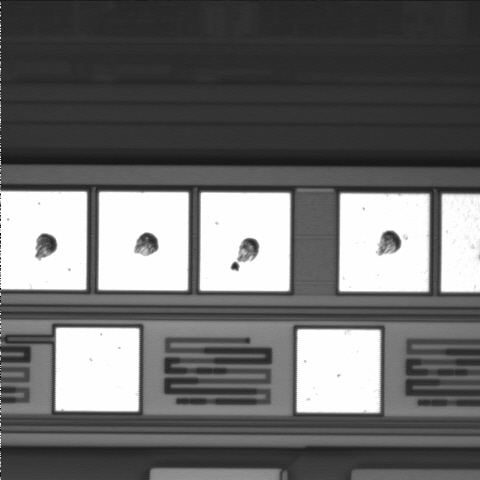pad: (98, 192, 189, 290), (200, 192, 290, 291), (339, 194, 429, 292), (297, 329, 380, 413), (56, 328, 139, 411)
